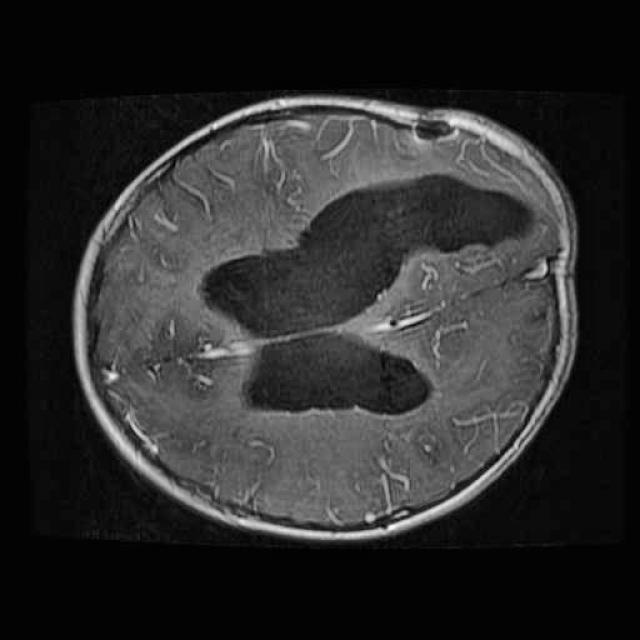Non-Tumor: (295, 160, 552, 301)
